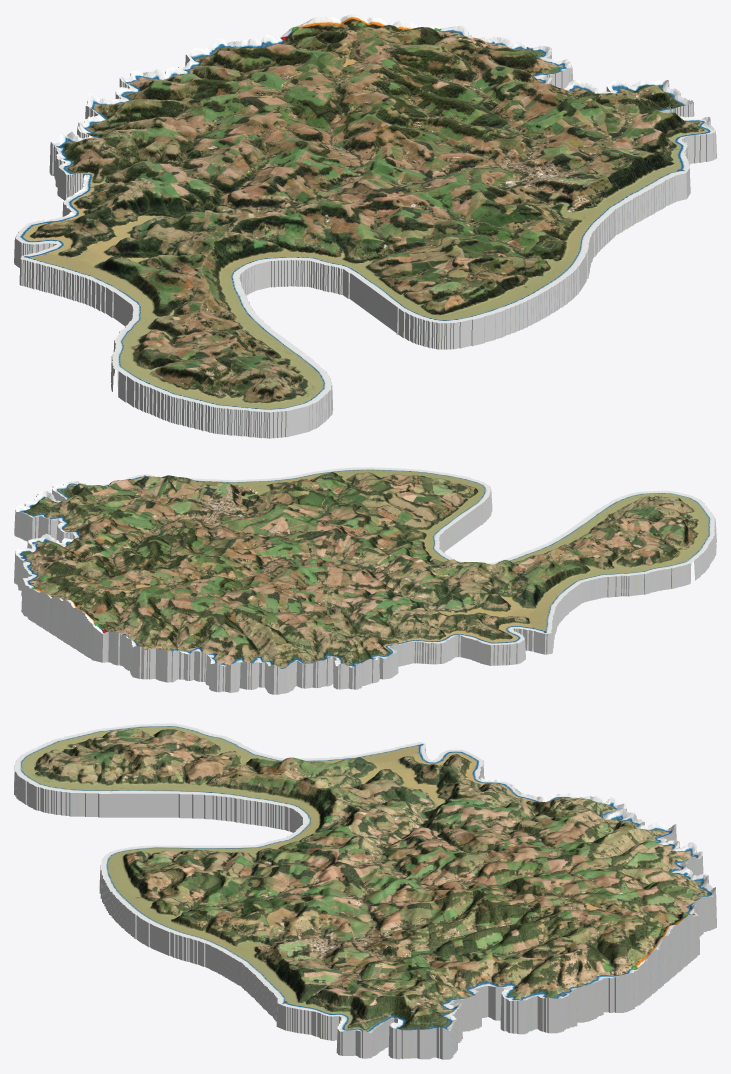
3 renders of one model, top to bottom at view 1: azimuth 30°, elevation 25°; view 2: azimuth 150°, elevation 25°; view 3: azimuth 270°, elevation 25°, orthographic. The views are drawn at different scales.
Size of the model in its own units: 0.9999 by 0.0776 by 0.9486.
Materials: 1 (1 with a texture image).
